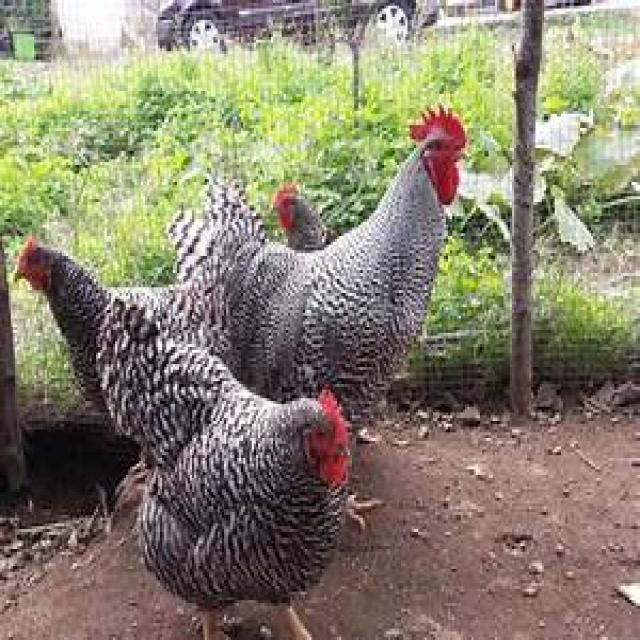hen: (121, 110, 468, 422), (96, 300, 348, 636), (284, 607, 306, 637)
